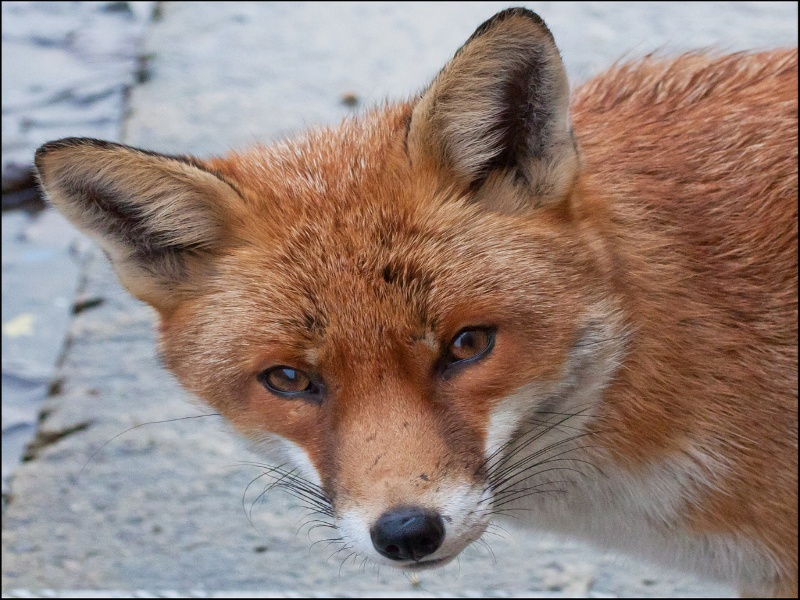fox: (33, 8, 796, 597)
